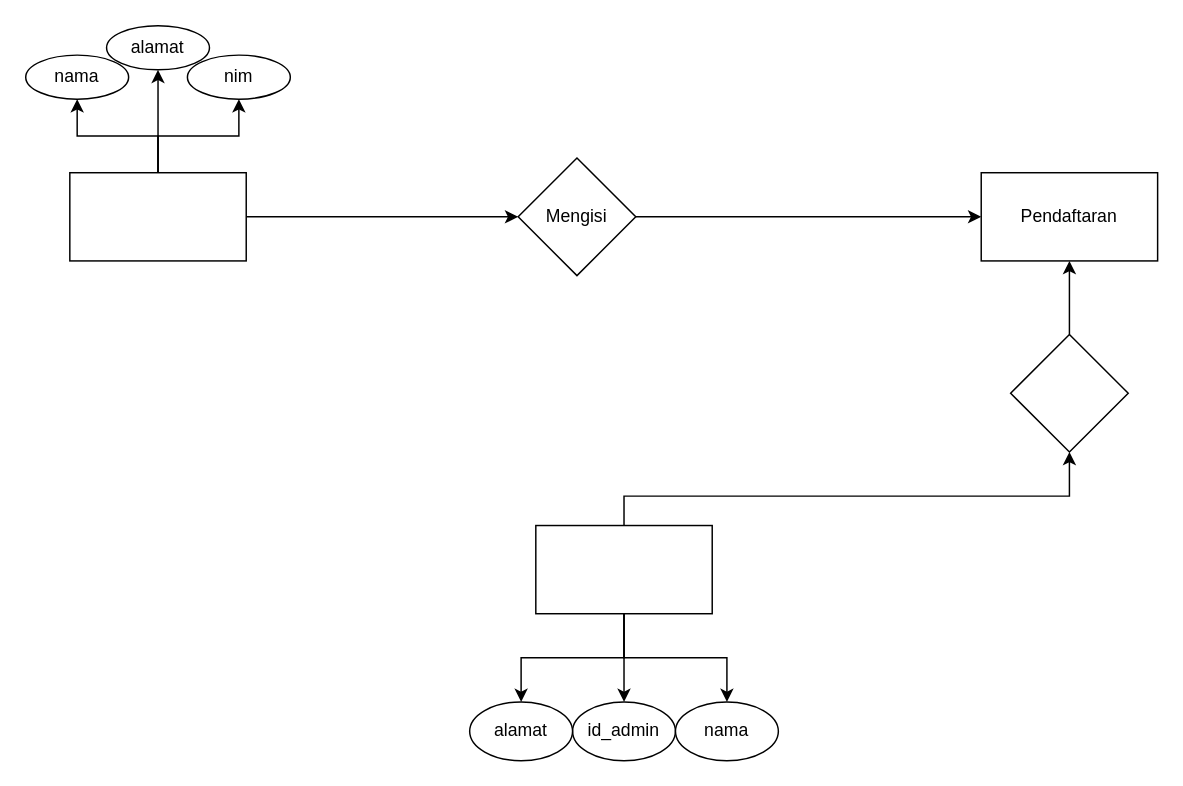
The diagram is 1183 pixels wide and 786 high, and some of its shapes have lost their labels. The box of each missing label's shape, as (x1, y1, x2, y2) in pixels:
Admin: (534, 524, 712, 614)
mengelola: (1009, 333, 1128, 452)
Siswa: (68, 171, 246, 261)
